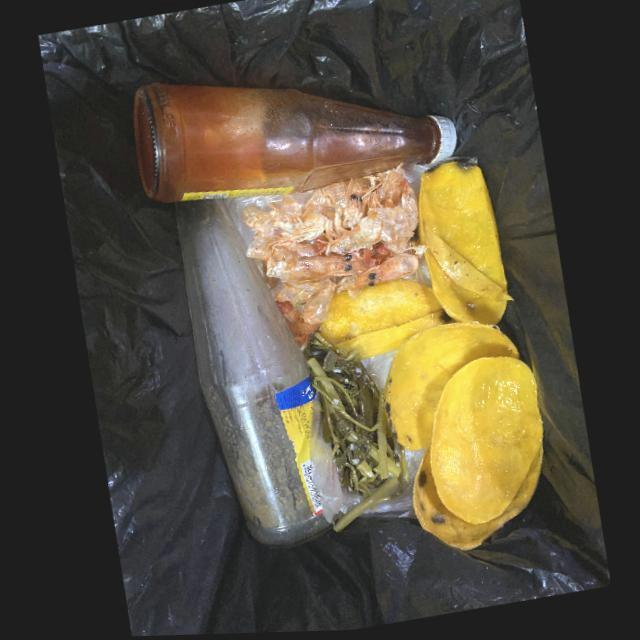glass_bottle: (174, 197, 328, 547), (132, 82, 457, 204)
left_over_food: (237, 172, 425, 351)
